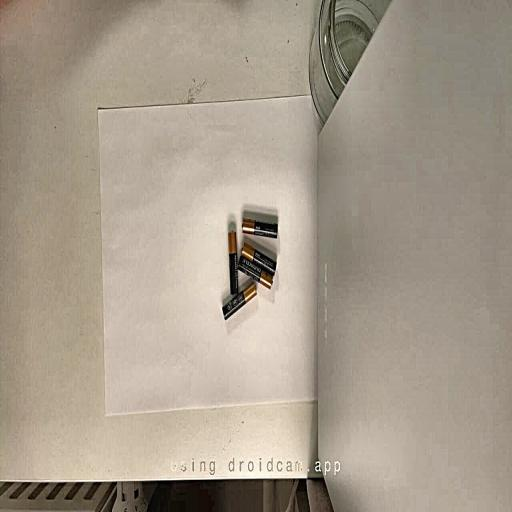DuracellAAA: (222, 283, 256, 319), (242, 242, 276, 275), (239, 257, 273, 289), (242, 218, 277, 238), (228, 230, 238, 294)
